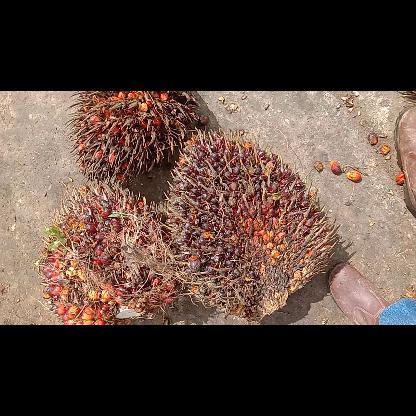Kurang masak: (166, 128, 334, 324)
TBS masak: (41, 182, 180, 324)
Terlalu masak: (73, 91, 208, 181)
